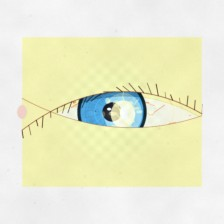corneal_ulcer: (101, 96, 145, 132)
